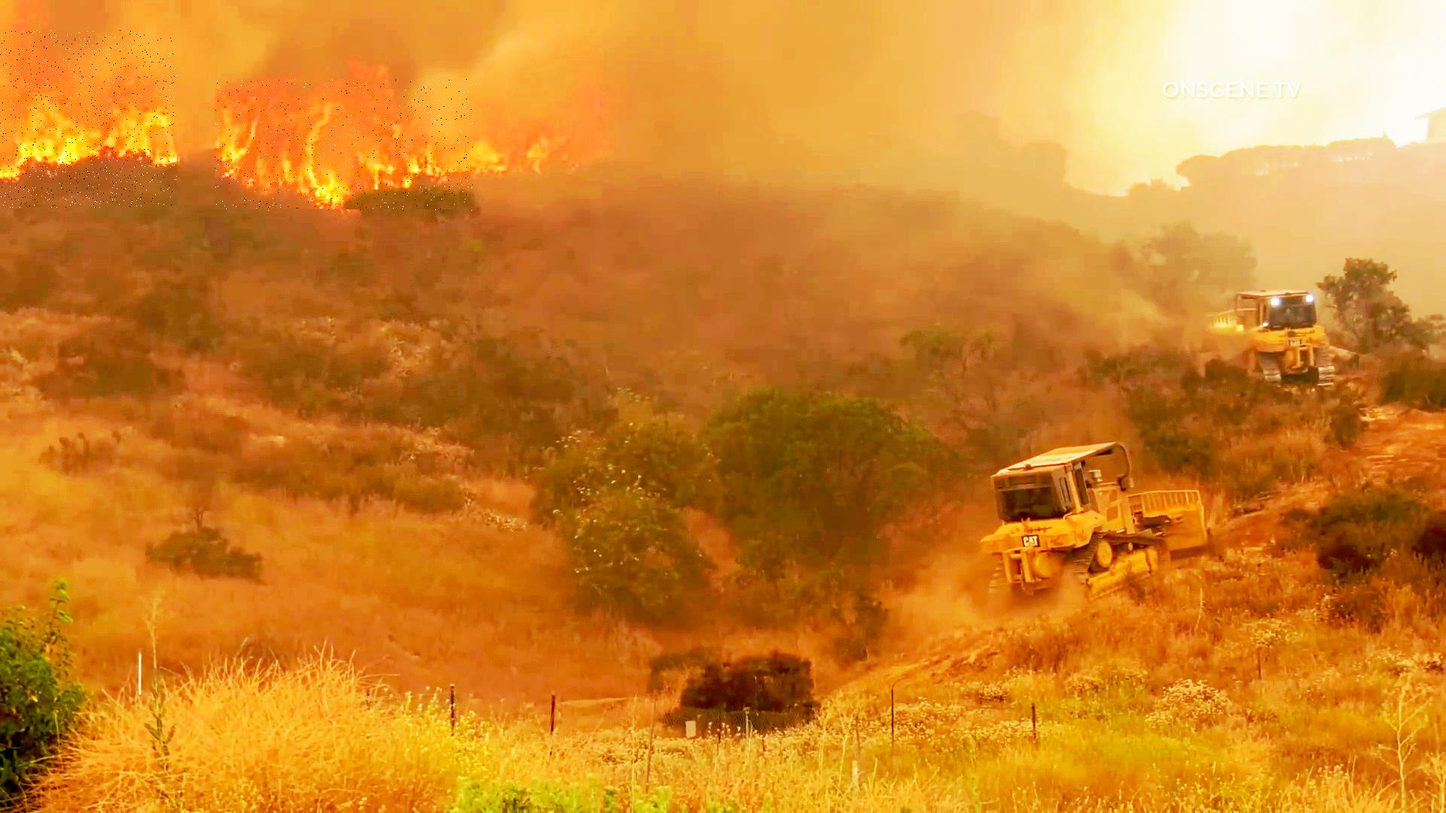fire: (215, 79, 474, 211), (0, 30, 177, 208)
